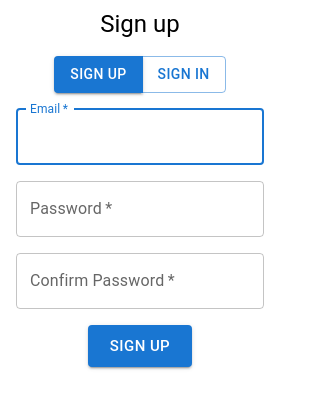
Test: <SignUp /> › sign Up › Simulate a confirm password error
Type "aaaa@aaaa.com" into the field named "email" at (140,137), box [16,109,264,165]
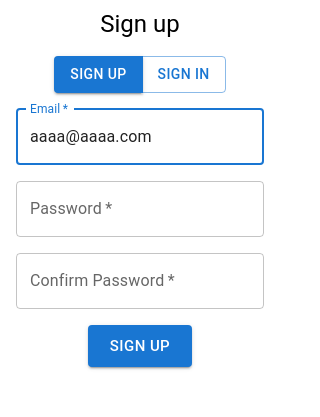
Type "password" into the password field named "password" at (140,209), box [16,181,264,237]
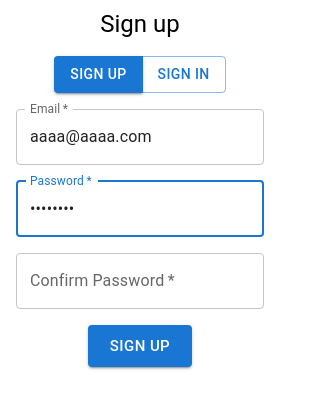
Type "psw" into the password field named "confirmPassword" at (140,281), box [16,253,264,309]
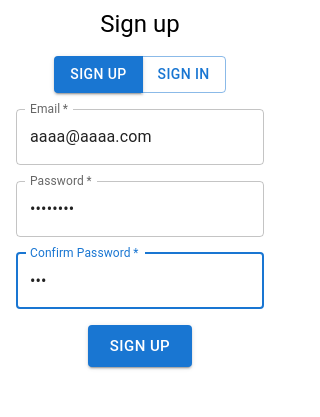
Click the submit button at (140,346), box [88,325,192,367]
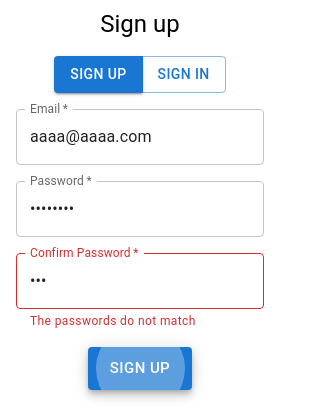
Check: the text "The passwords do not match" is shown, box [30,314,196,328]
